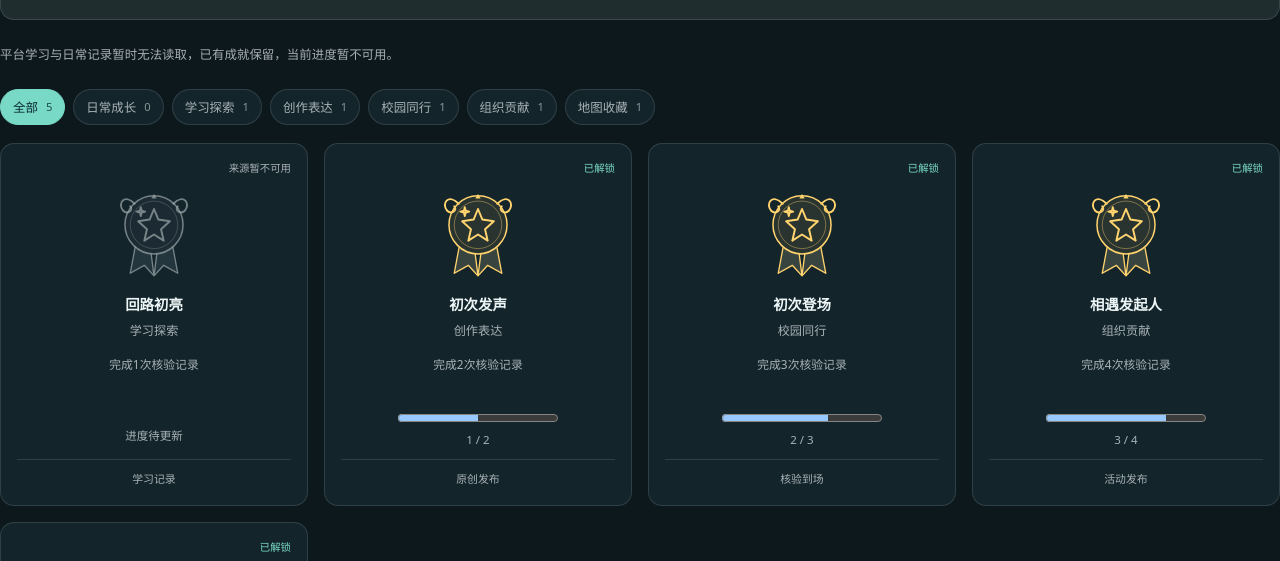
Test case: AchievementAtlasPanel › does not claim to have reloaded a revision conflict when that reload fails
The image size is (1280, 561).
(page scrolled)
Click the button with aria-label "初次发声 查看详情": point(478, 325) [324,143,632,506]
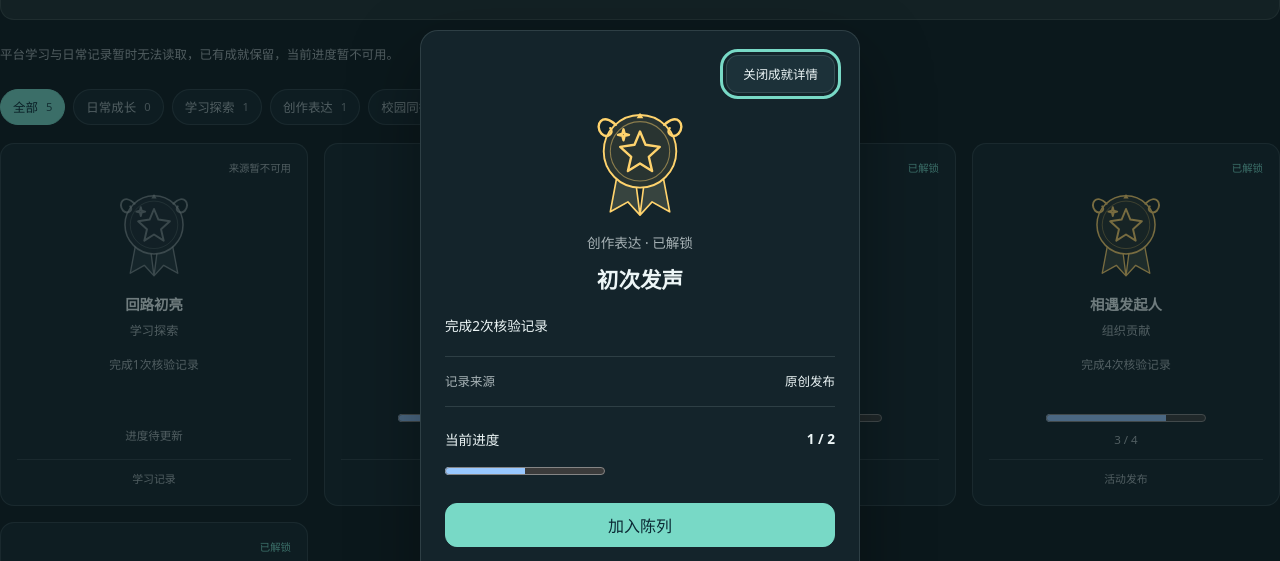
Click the button "加入陈列": point(640, 525) [445,503,835,547]
(page scrolled)
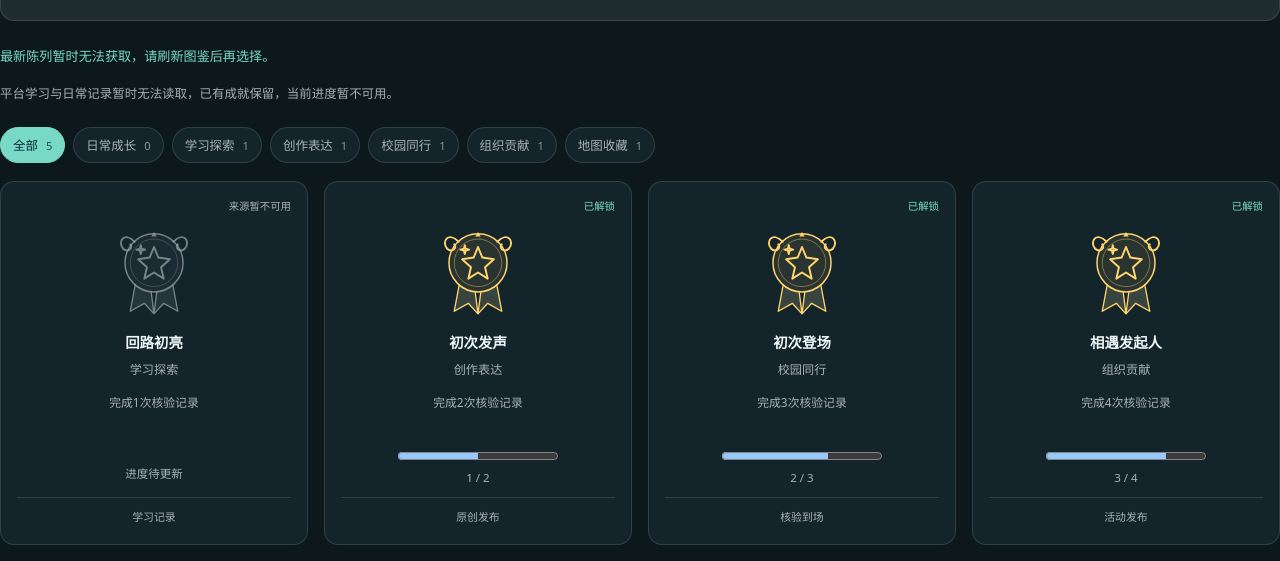
Result: the text "最新陈列暂时无法获取，请刷新图鉴后再选择。" is shown at [0,47,275,65]
